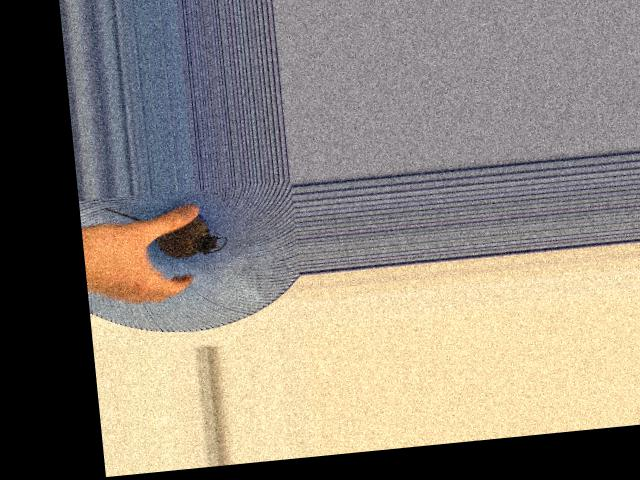beet: (104, 195, 229, 264)
